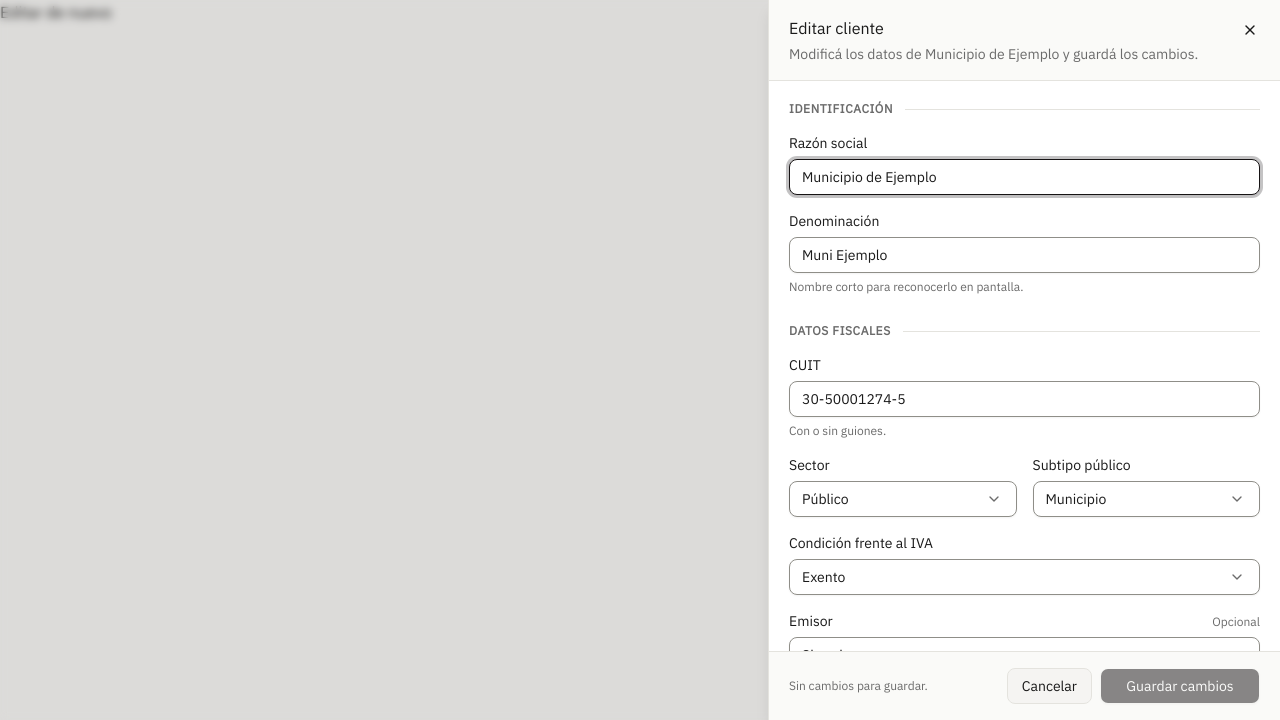
EditarClienteSheet: feedback de la edición › si falla, nunca confirma: queda abierto, con lo escrito y el botón en reposo
Replace the text in the field labelled "Denominación" with "Muni Nueva" at (1024, 255), box left=789, top=237, right=1260, bottom=273
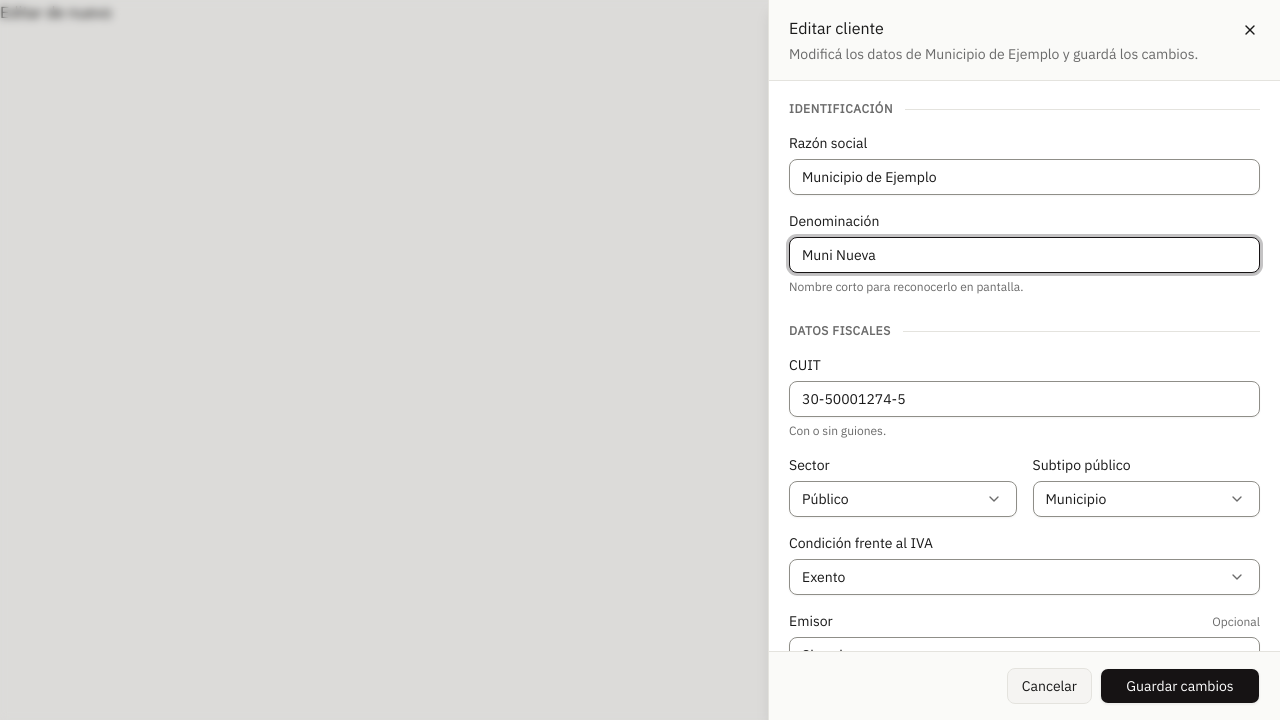
Click the button "Guardar cambios" at (1180, 686), box left=1100, top=668, right=1260, bottom=704
Wait 1000 ms
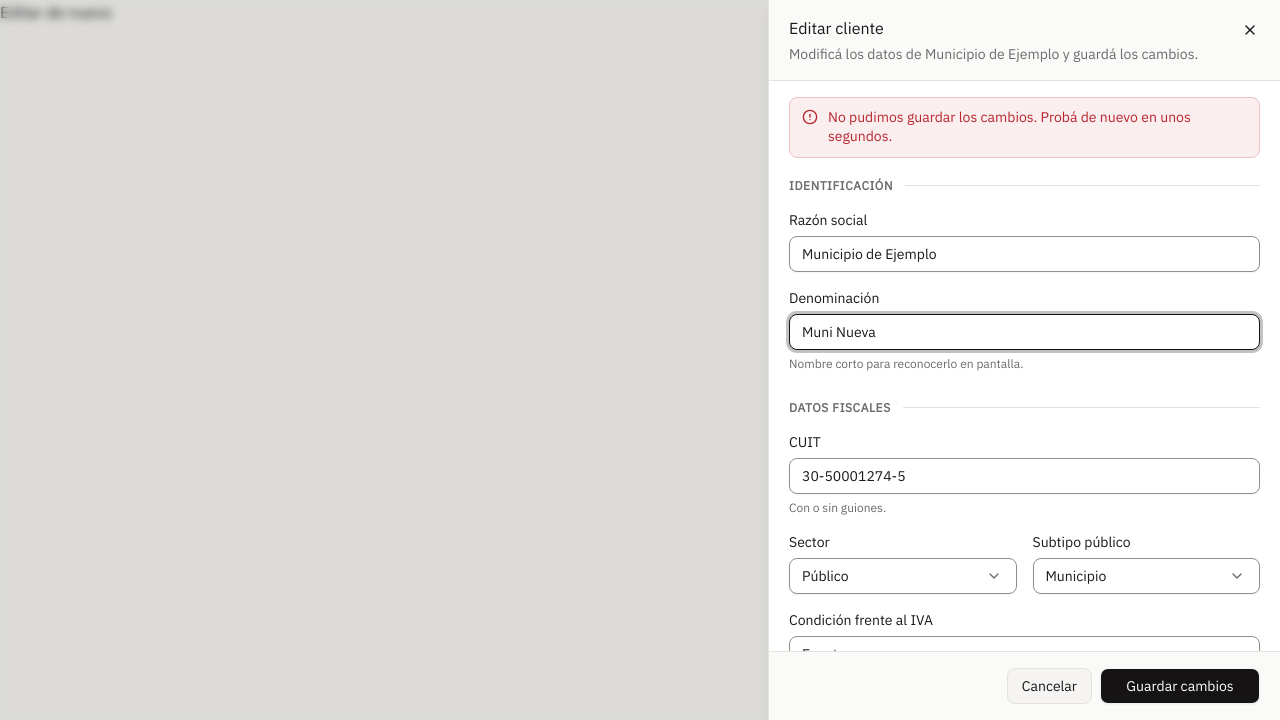
Expected: the dialog "Editar cliente" is shown, left=768, top=0, right=1279, bottom=719
Expected: the button "Guardar cambios" is enabled, left=1100, top=668, right=1260, bottom=704
Expected: the message shows "No pudimos guardar los cambios.", left=828, top=108, right=1191, bottom=145
